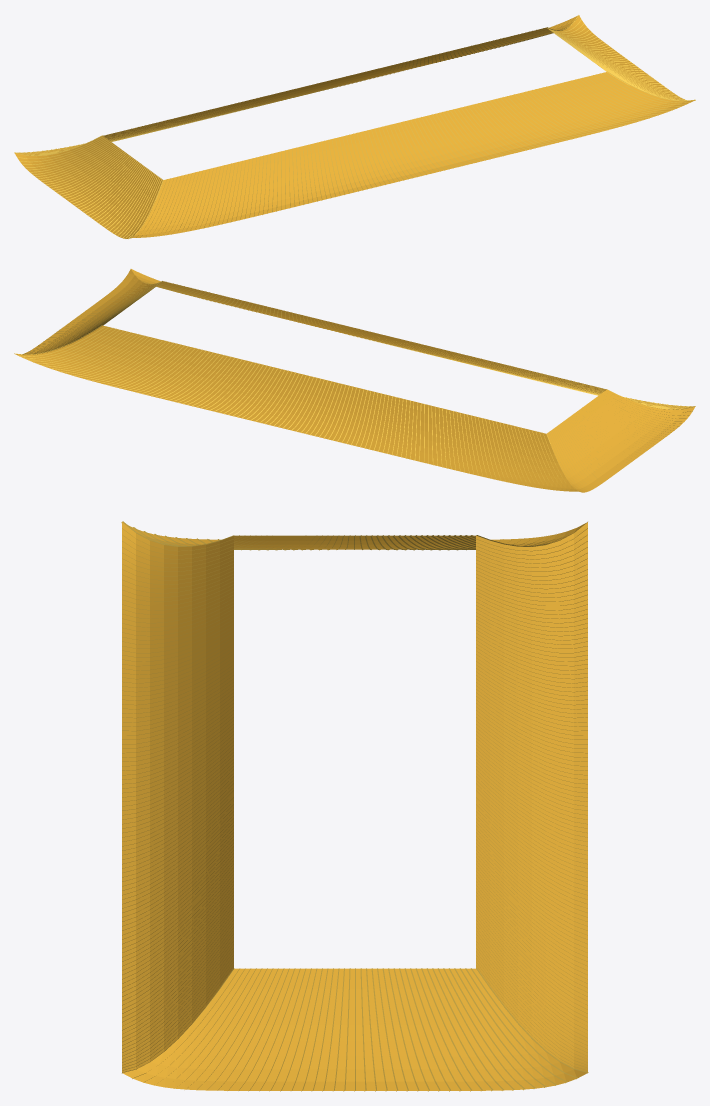
The model's file is SM_21_Roof_Lower.fbx.
The picture shows the model from 3 angles, top to bottom: view 1: azimuth 30°, elevation 25°; view 2: azimuth 150°, elevation 25°; view 3: azimuth 270°, elevation 25°; orthographic projection. The views are drawn at different scales.
Visible parts, largest first — view 1: Roof_Lower; view 2: Roof_Lower; view 3: Roof_Lower.
Part boxes in pixels (x1,y1,x2,y2): Roof_Lower: (14,15,695,239); Roof_Lower: (14,269,695,492); Roof_Lower: (121,521,588,1091).
Size of the model in its own units: 5609 by 2009 by 307.
